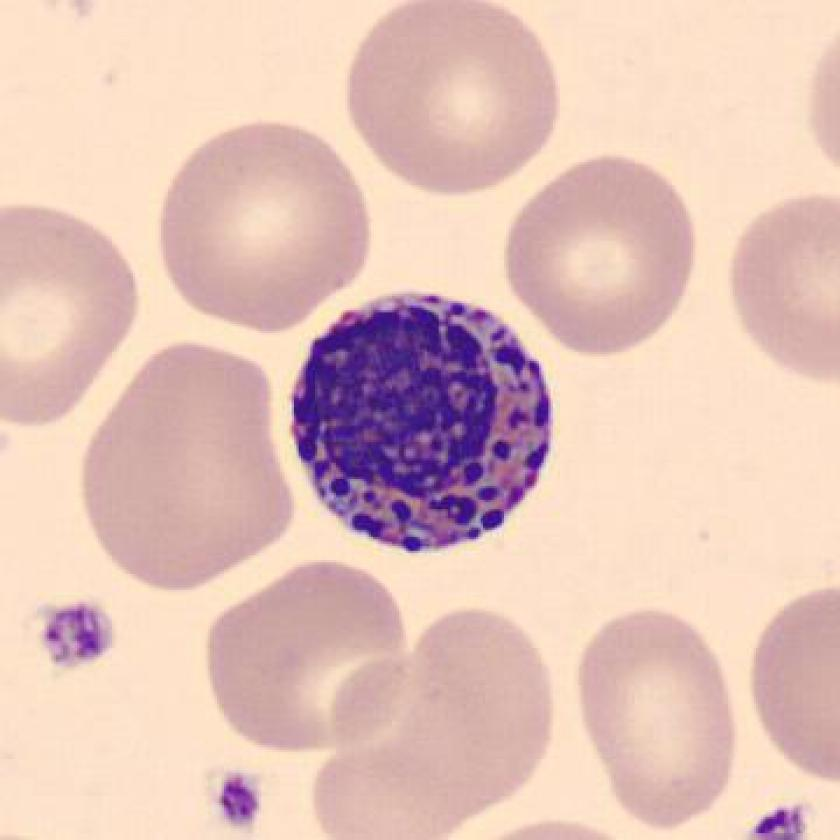basophil: (281, 288, 573, 556)
